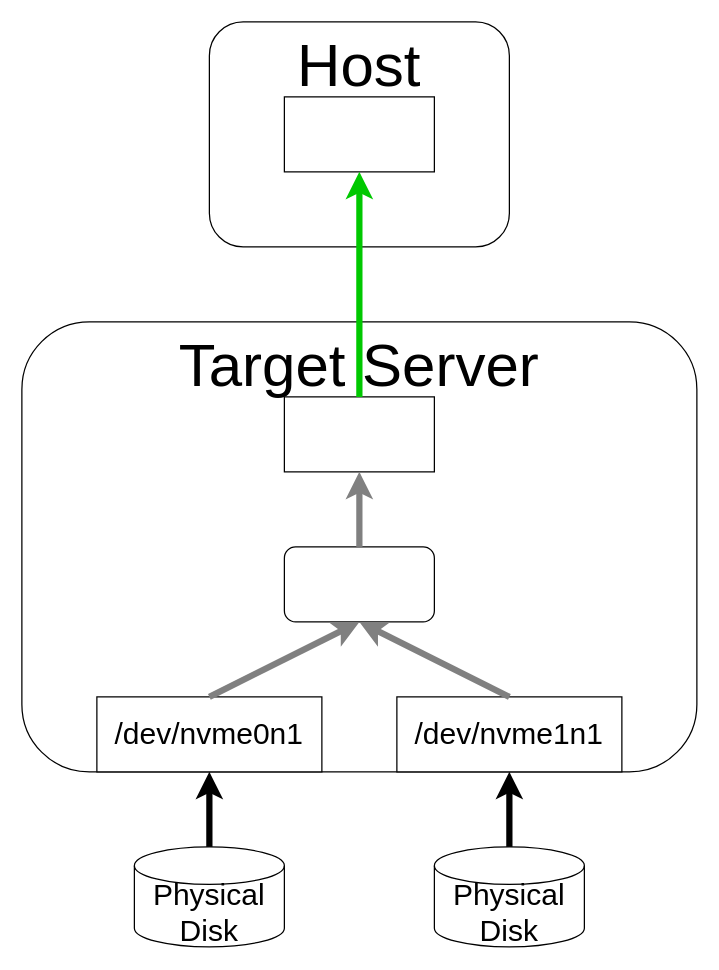
Some shapes in this 719 by 970 pixel diagram are drawn without their labels. The box of each missing label's shape, as (x1, y1, x2, y2) in pixels:
device mapper: (283, 546, 434, 622)
nvmeof: (283, 96, 434, 172)
nvmeof target: (283, 396, 434, 472)
